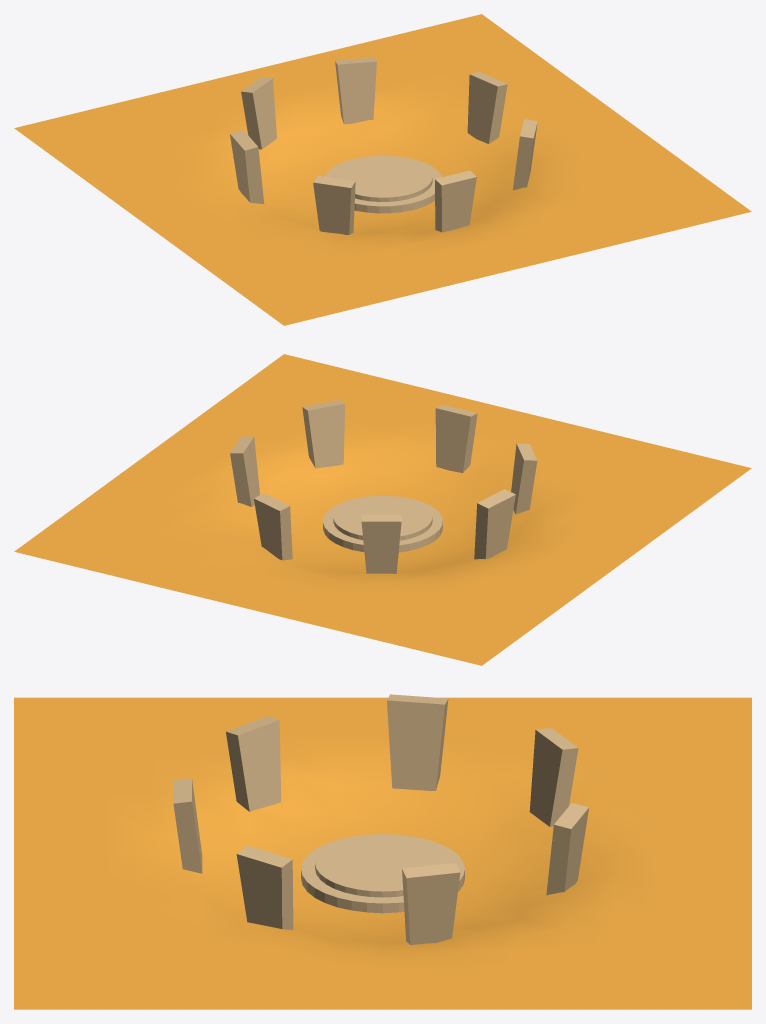
File: orbfloor.fbx
The picture shows the model from 3 angles, top to bottom: view 1: azimuth 30°, elevation 25°; view 2: azimuth 150°, elevation 25°; view 3: azimuth 270°, elevation 25°; orthographic projection. The views are drawn at different scales.
Visible parts, largest first — view 1: orbfloor; view 2: orbfloor; view 3: orbfloor.
Part boxes in pixels (x1=…): orbfloor: x1=14, y1=14, x2=751, y2=325; orbfloor: x1=14, y1=354, x2=751, y2=665; orbfloor: x1=14, y1=694, x2=751, y2=1009.
Bounding box in the file's own units: 4 × 0.6087 × 4.
